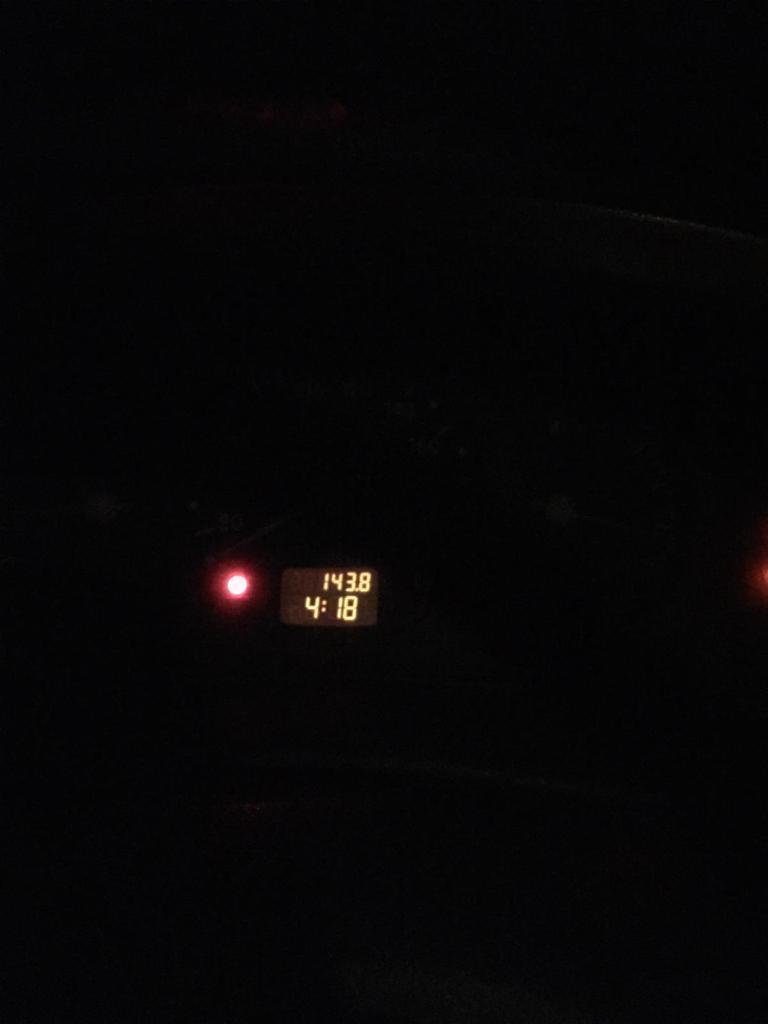,: (355, 587, 359, 593)
1: (334, 595, 343, 620), (320, 571, 330, 591)
3: (344, 570, 355, 592)
4: (302, 594, 320, 620), (330, 571, 344, 591)
8: (343, 594, 358, 621), (358, 571, 372, 592)
X: (320, 598, 328, 613)
odometer: (274, 561, 383, 630)
